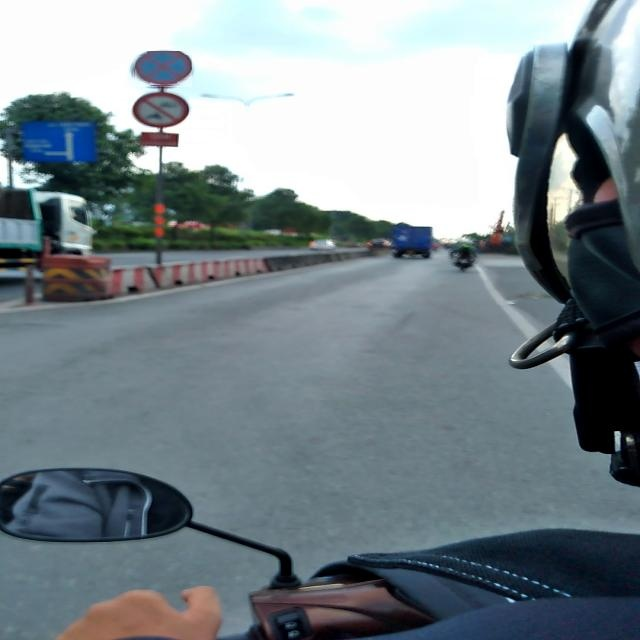bien_cam: (133, 52, 192, 88)
